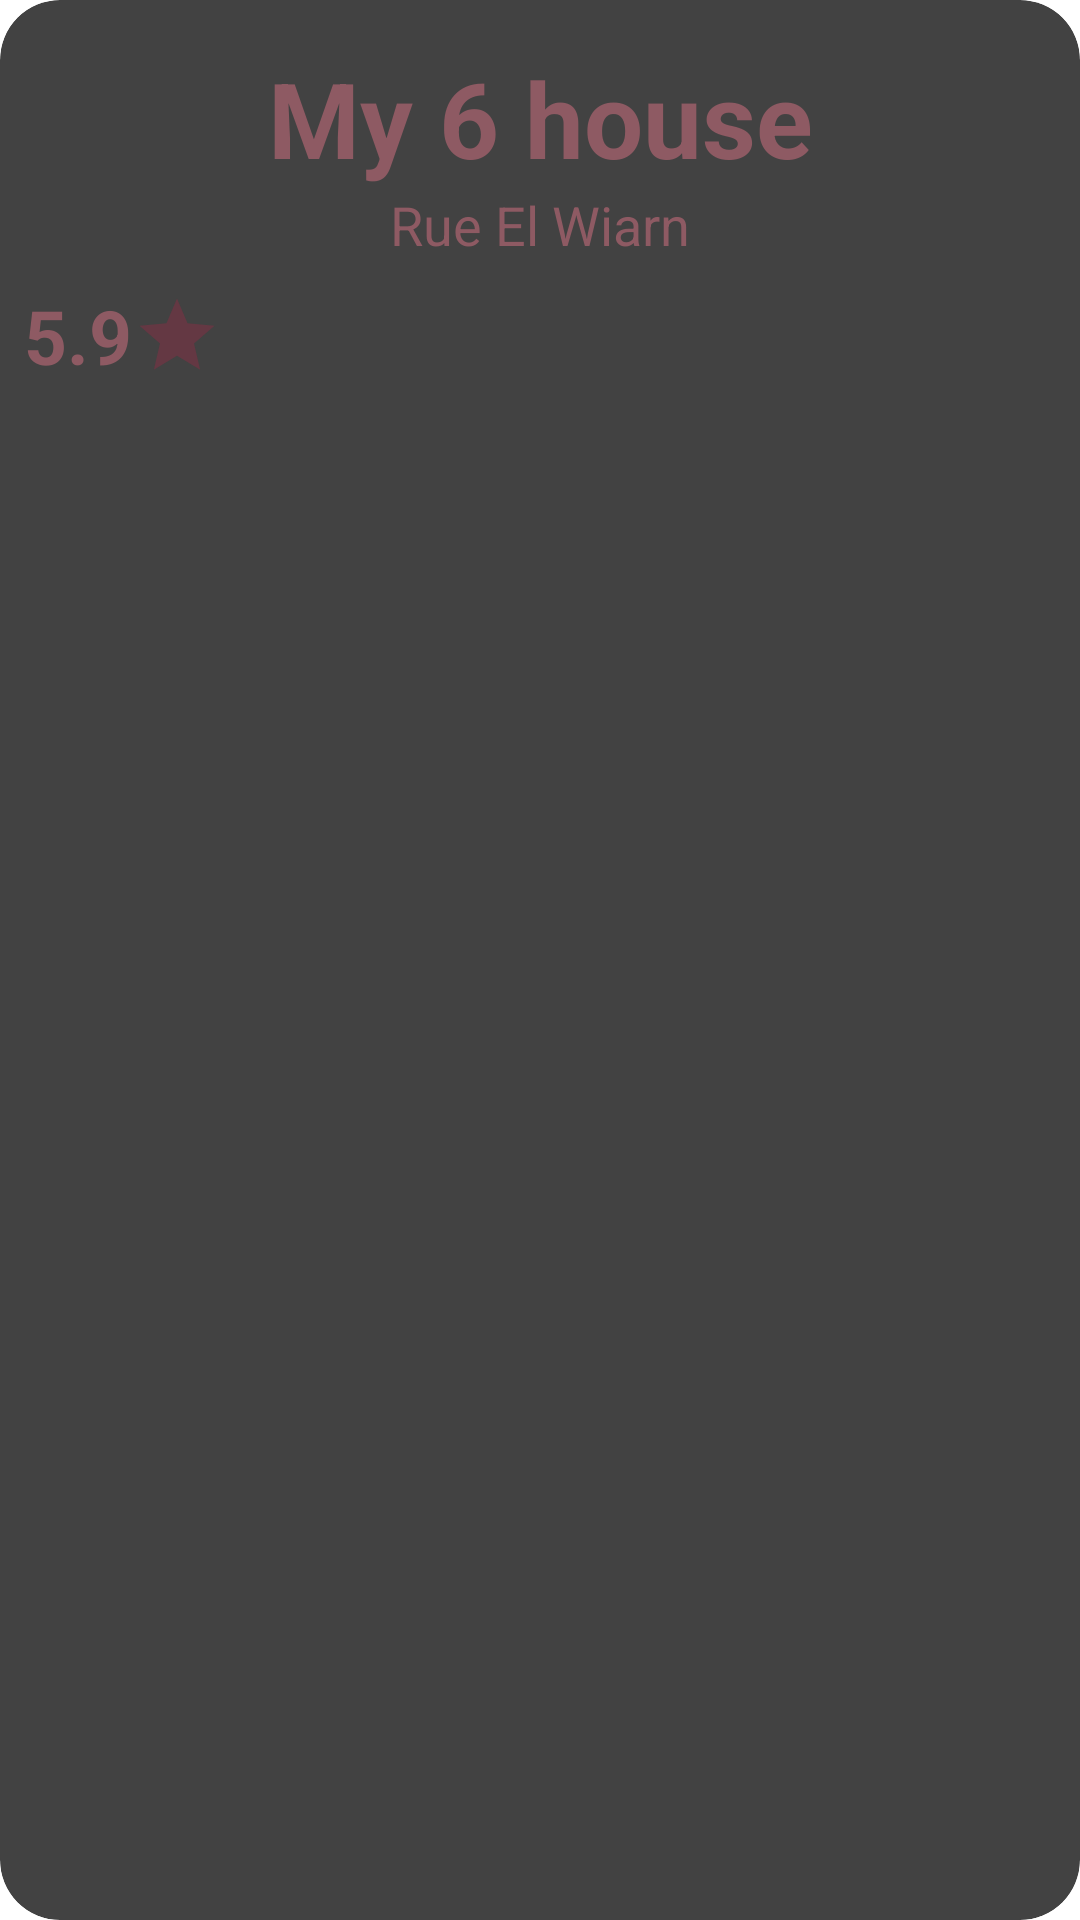

Icons on this 1080w x 1920h Android screen, each with the point to tap as [x,y]:
star: [177,334]
